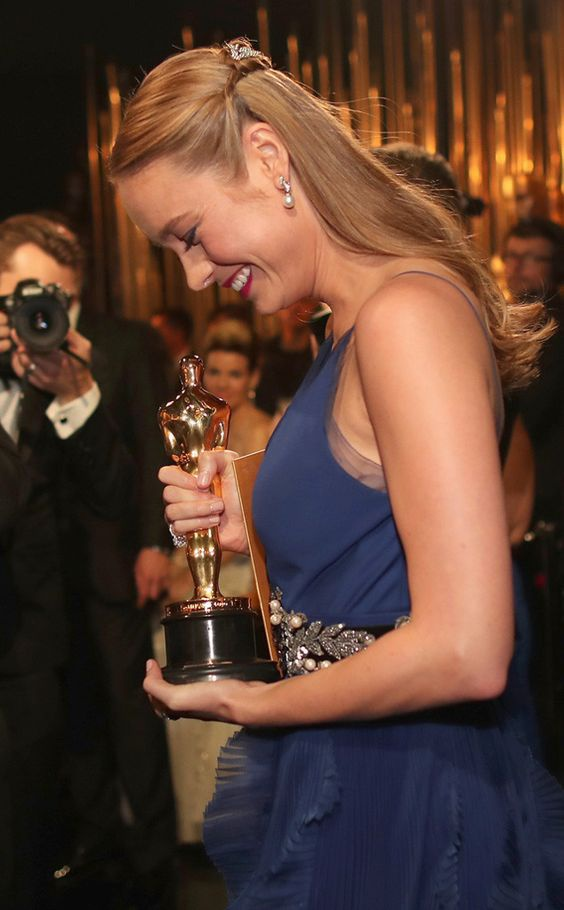hand: (170, 454, 271, 534)
